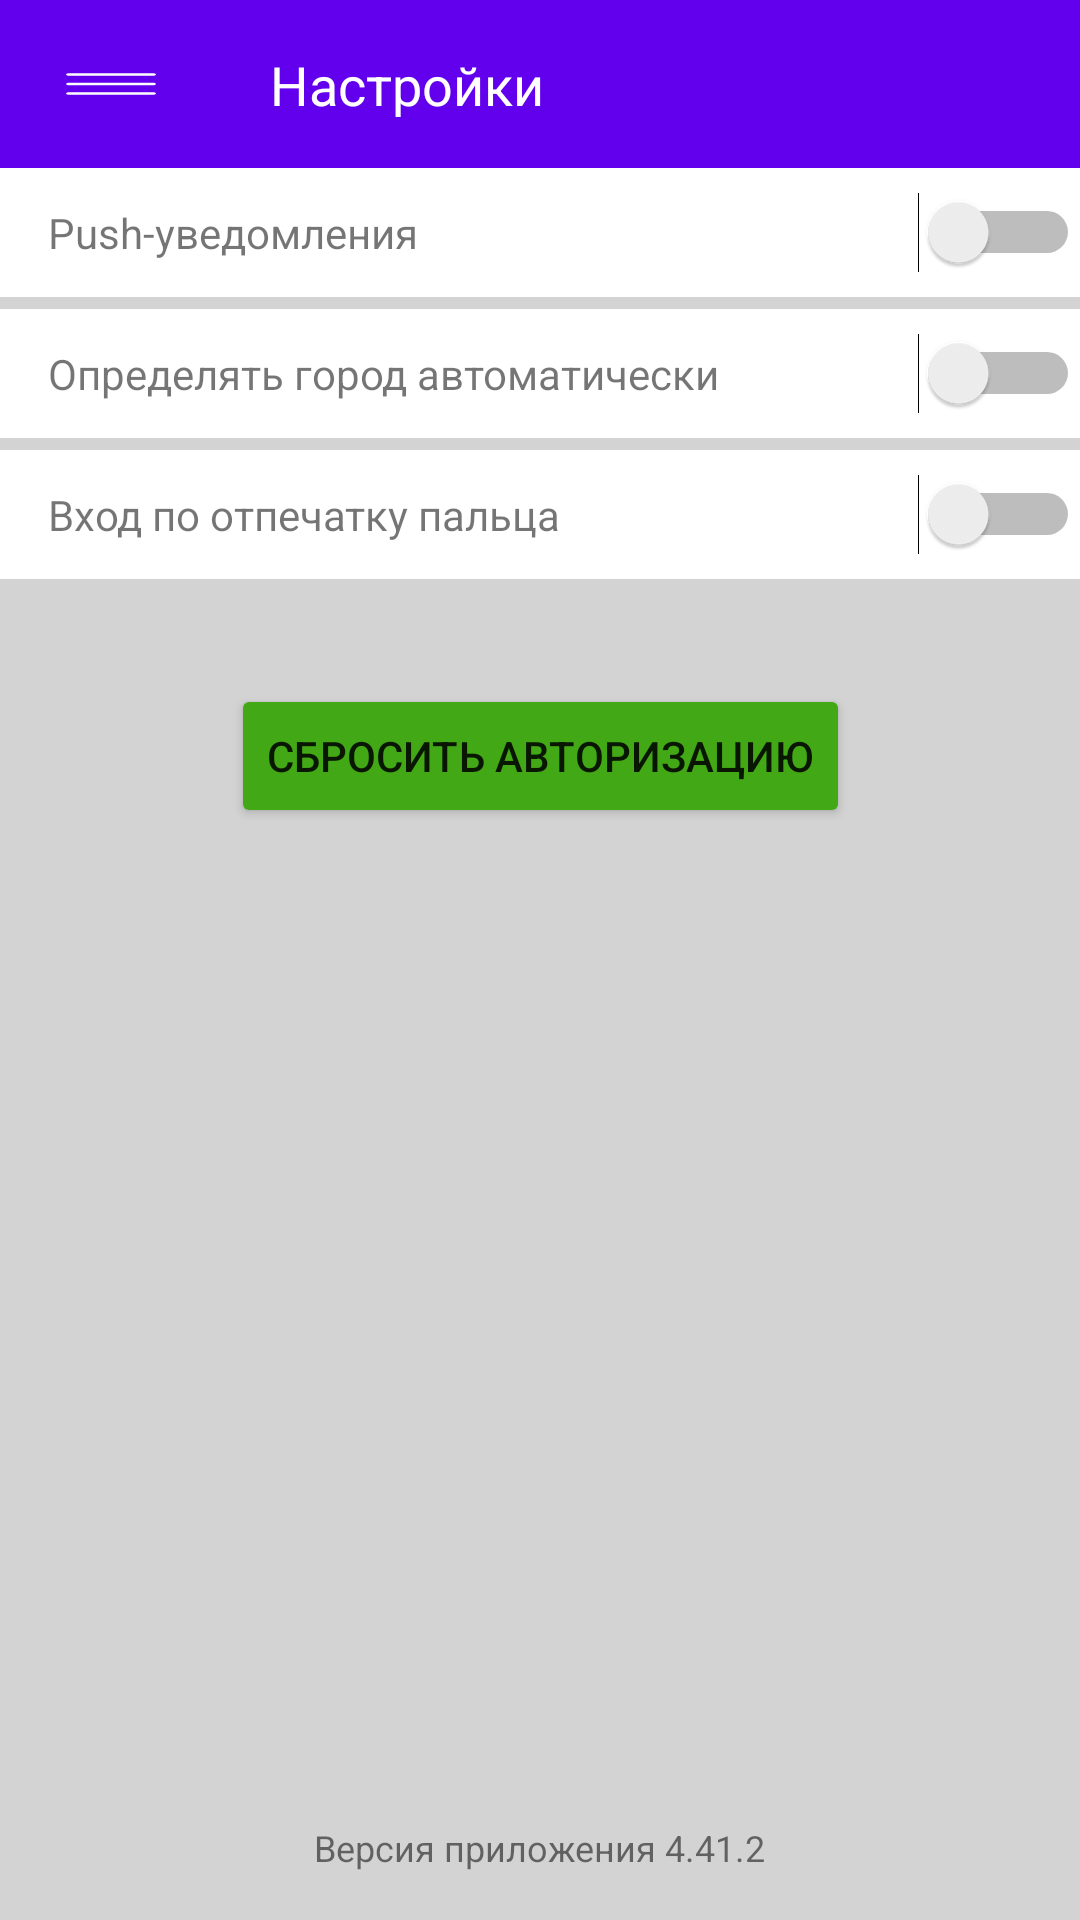

Named icons in this screenshot (1080px×1920px) and their bounding boxes, (x1, y1, x2, y2):
menu: (66, 73, 156, 95)
